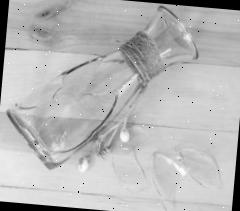glass: (0, 0, 202, 183)
